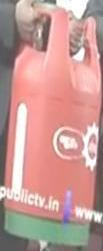cylinder: (0, 1, 103, 251)
